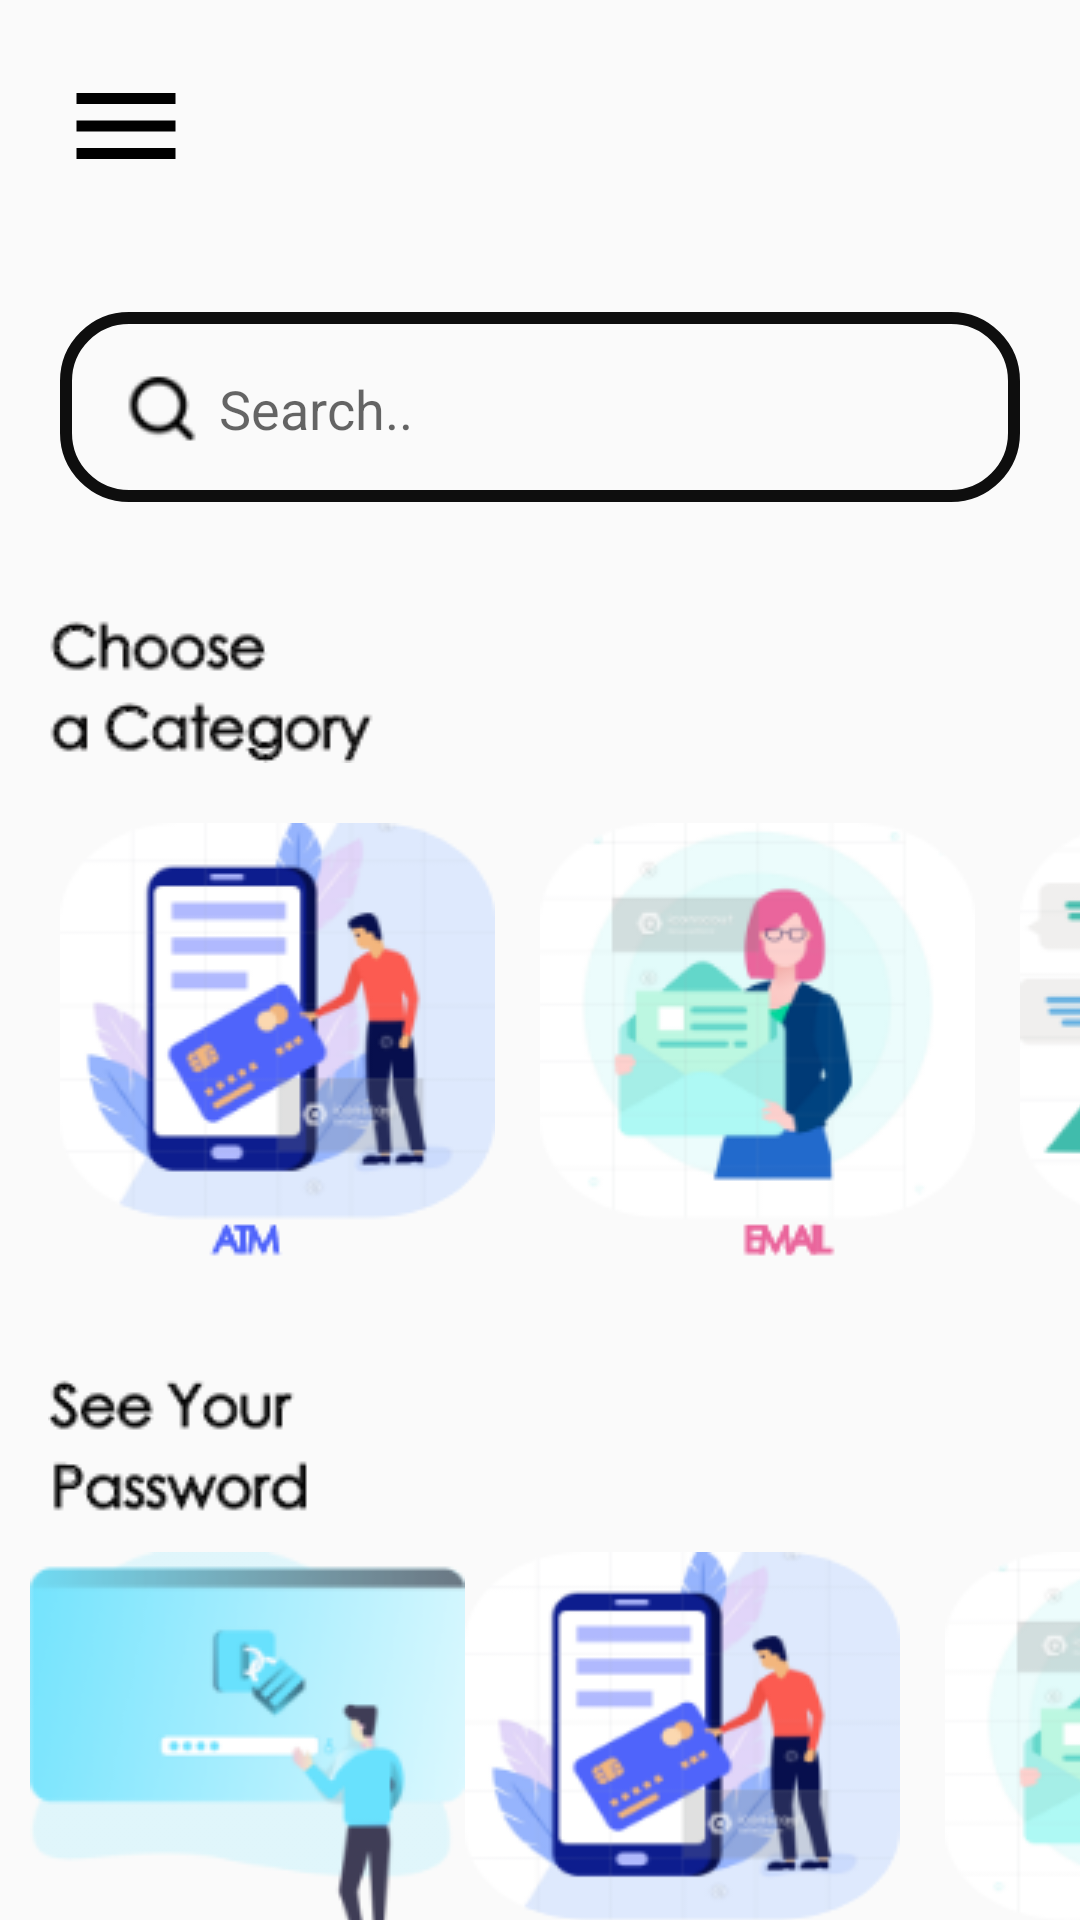

Icon click points for this 1080*1920 phone screenshot, format (x=x, y=y):
menu: (x=126, y=126)
